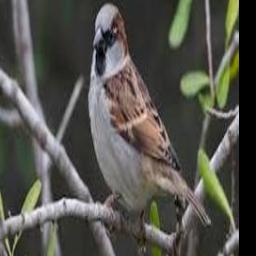Sparrow: (88, 3, 211, 229)
